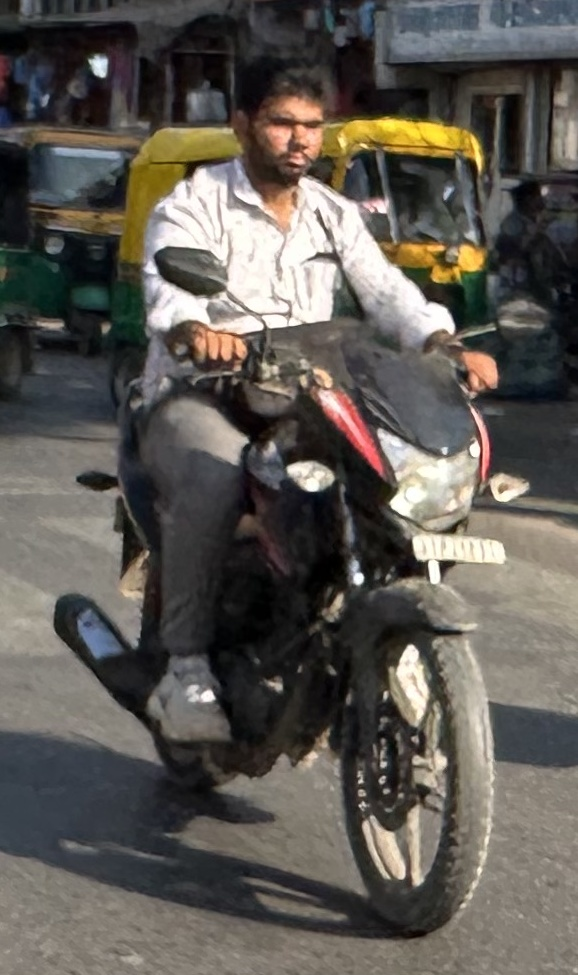BikeWithRider: (41, 39, 543, 950)
NoHelmet: (217, 44, 341, 189)
